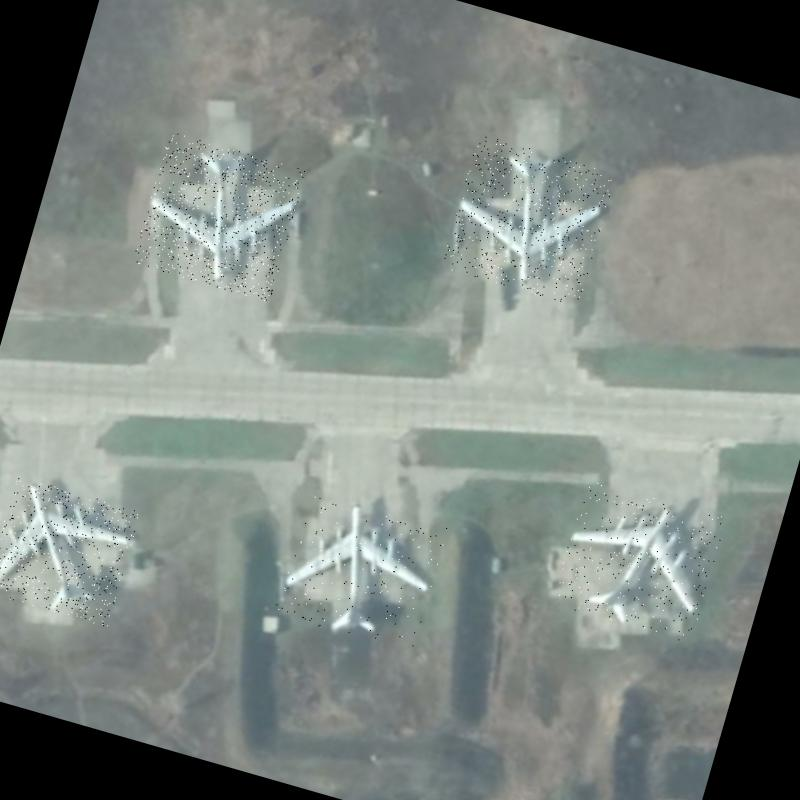A17: (440, 134, 616, 307), (132, 131, 306, 302), (551, 478, 726, 644), (274, 488, 448, 654), (0, 475, 140, 627)
